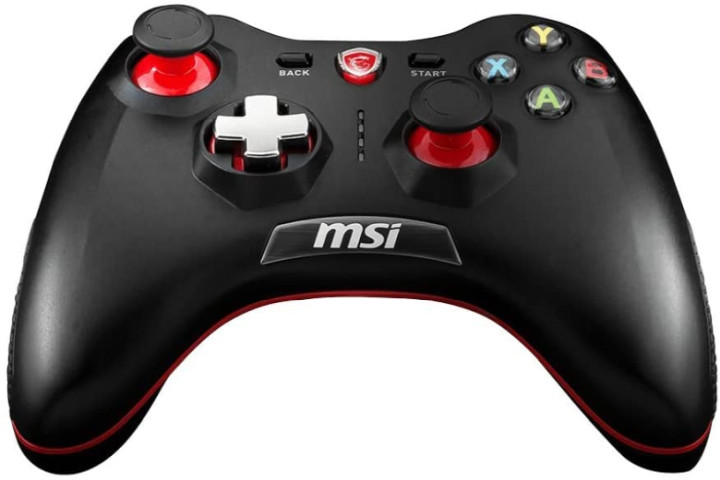controller: (8, 4, 717, 472)
